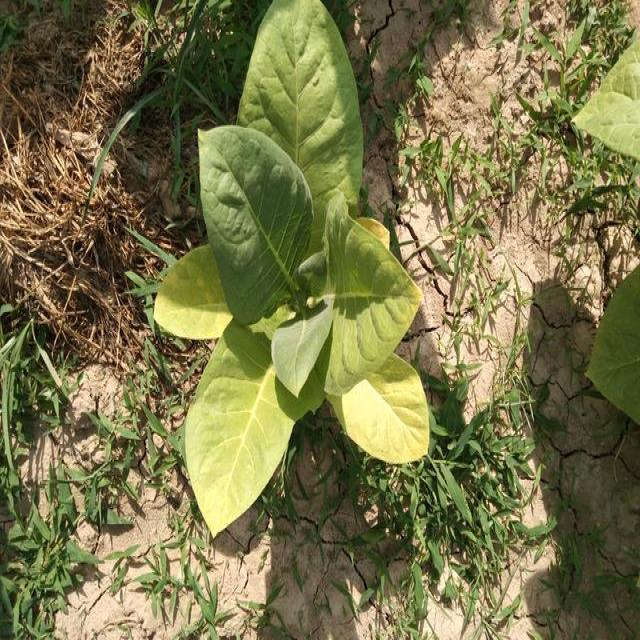crop: (149, 1, 437, 543)
